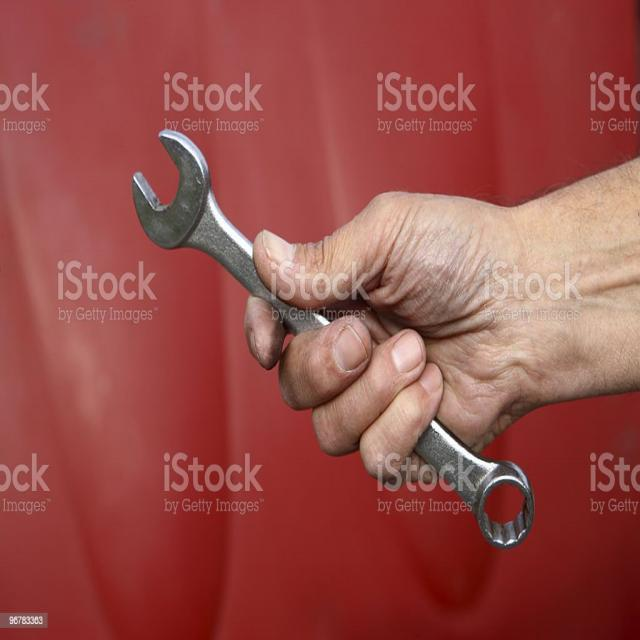wrench: (128, 126, 534, 552)
